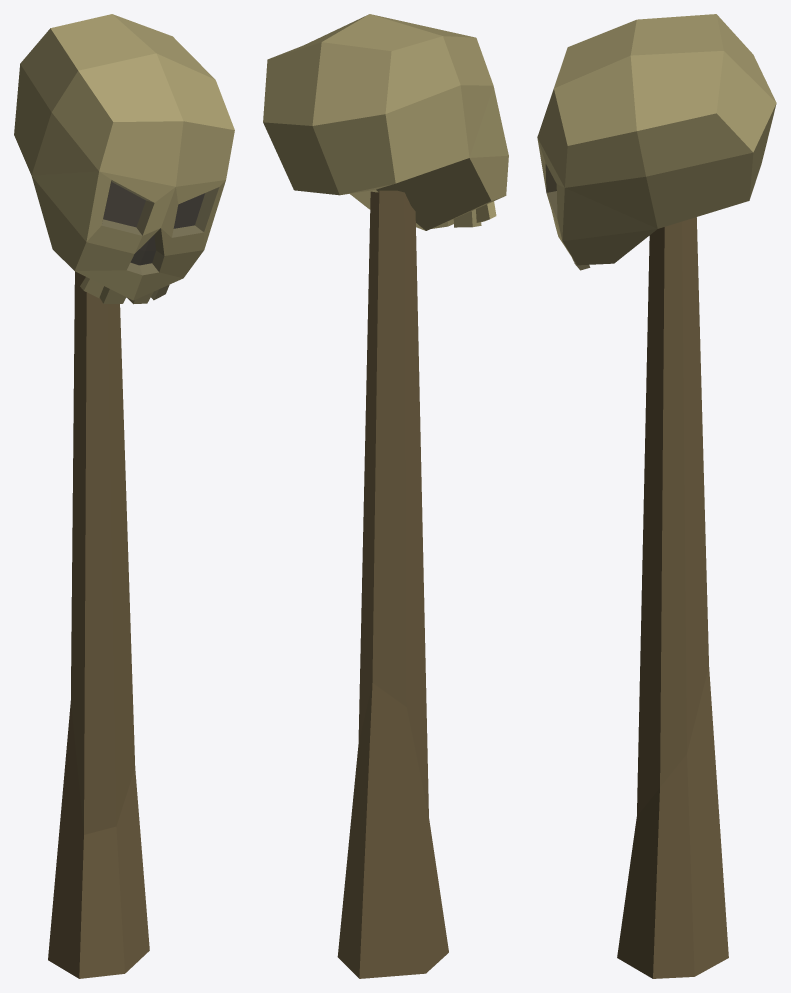
File: Skull_3.fbx
3 views of the same model, side by side, from view 1: azimuth 30°, elevation 25°; view 2: azimuth 150°, elevation 25°; view 3: azimuth 270°, elevation 25° (orthographic).
Visible parts, largest first — view 1: Scull_3; view 2: Scull_3; view 3: Scull_3.
Boxes of the visible parts, left/top/right/bottom form: Scull_3: left=14, top=14, right=234, bottom=978; Scull_3: left=263, top=14, right=508, bottom=978; Scull_3: left=537, top=14, right=776, bottom=978.
Bounding box in the file's own units: 20.45 × 103 × 23.94.
